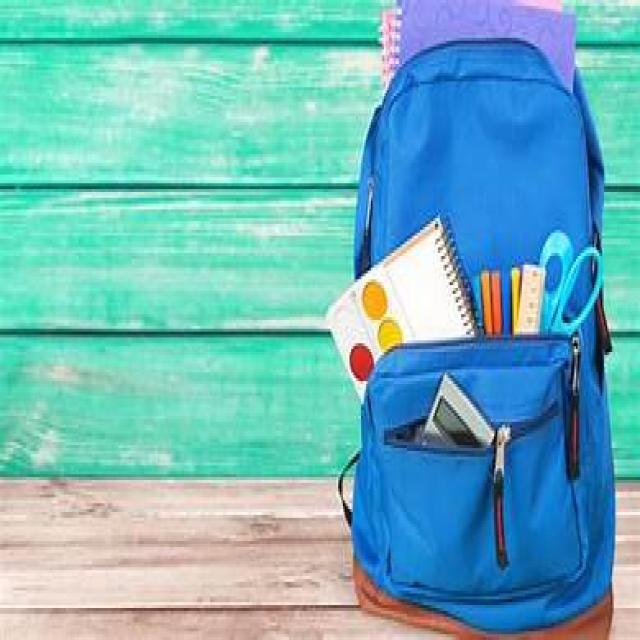backpack: (339, 30, 616, 638)
